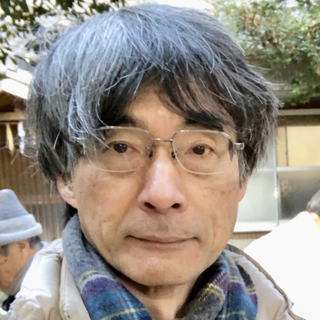eye: (96, 138, 143, 157), (181, 138, 217, 161)
